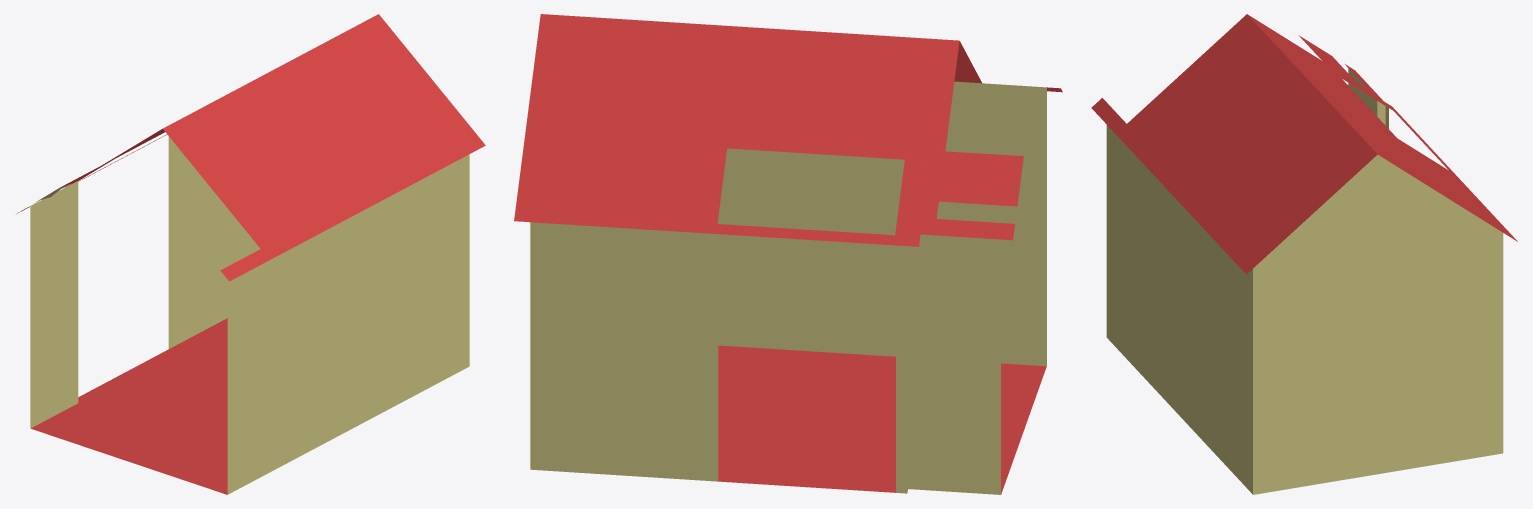
3 renders of one model, left to right at view 1: azimuth 30°, elevation 25°; view 2: azimuth 150°, elevation 25°; view 3: azimuth 270°, elevation 25°, orthographic. The views are drawn at different scales.
Size of the model in its own units: 20.79 by 17.83 by 14.96.
